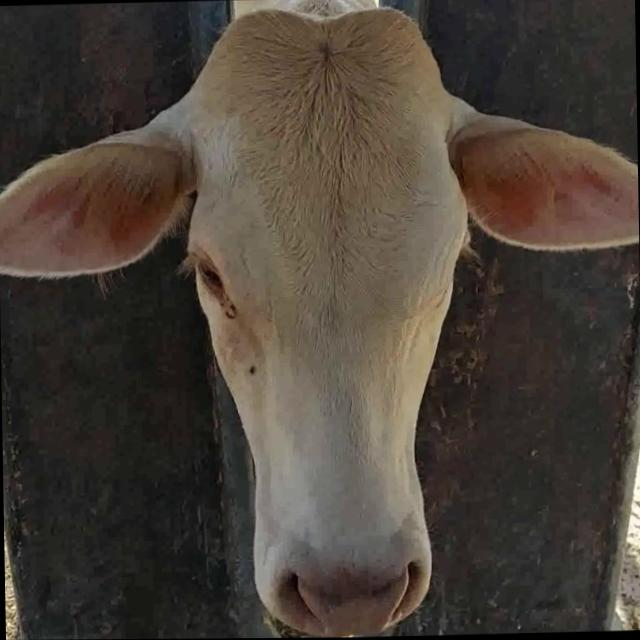cowFace: (186, 4, 476, 626)
